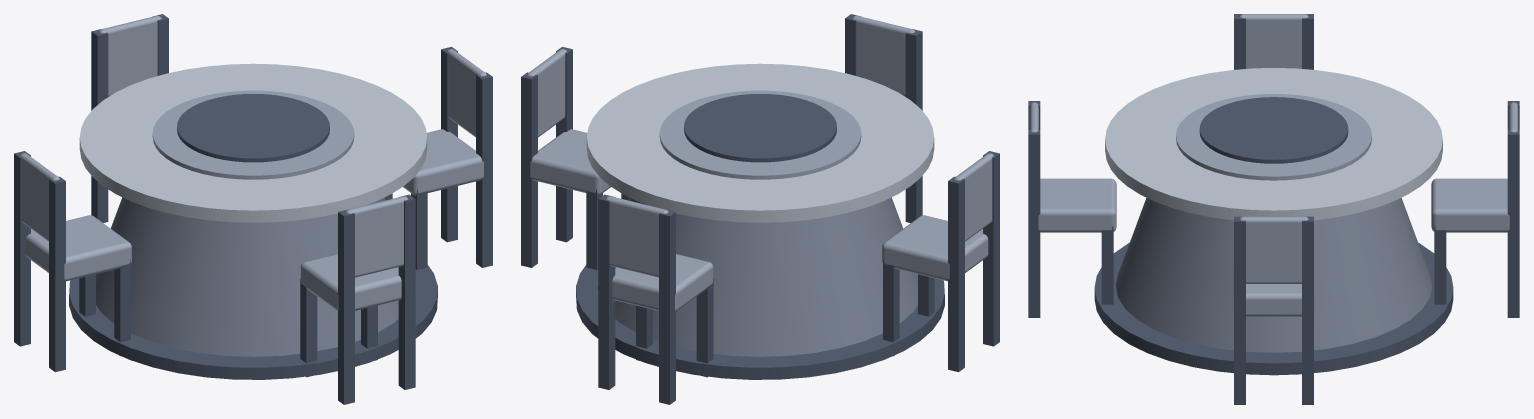
The model's file is rounddiningtable_turntable.glb.
3 views of the same model, side by side, from view 1: azimuth 30°, elevation 25°; view 2: azimuth 150°, elevation 25°; view 3: azimuth 270°, elevation 25° (orthographic). The views are drawn at different scales.
Visible parts, largest first — view 1: rounddiningtable_turntable; view 2: rounddiningtable_turntable; view 3: rounddiningtable_turntable.
Boxes of the visible parts, box(x1,y1,x2,y2) form: rounddiningtable_turntable: box(14, 14, 492, 404); rounddiningtable_turntable: box(521, 14, 999, 404); rounddiningtable_turntable: box(1028, 14, 1519, 404).
Size of the model in its own units: 2.05 by 0.8522 by 2.05.
